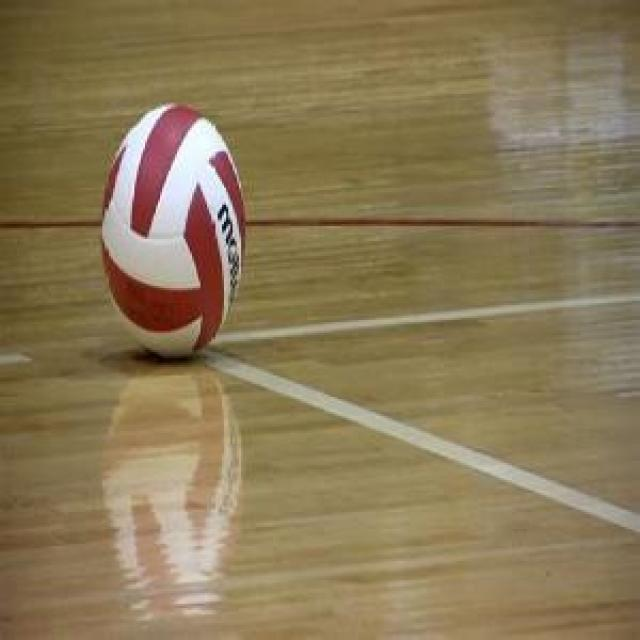volleyball: (100, 102, 246, 358)
